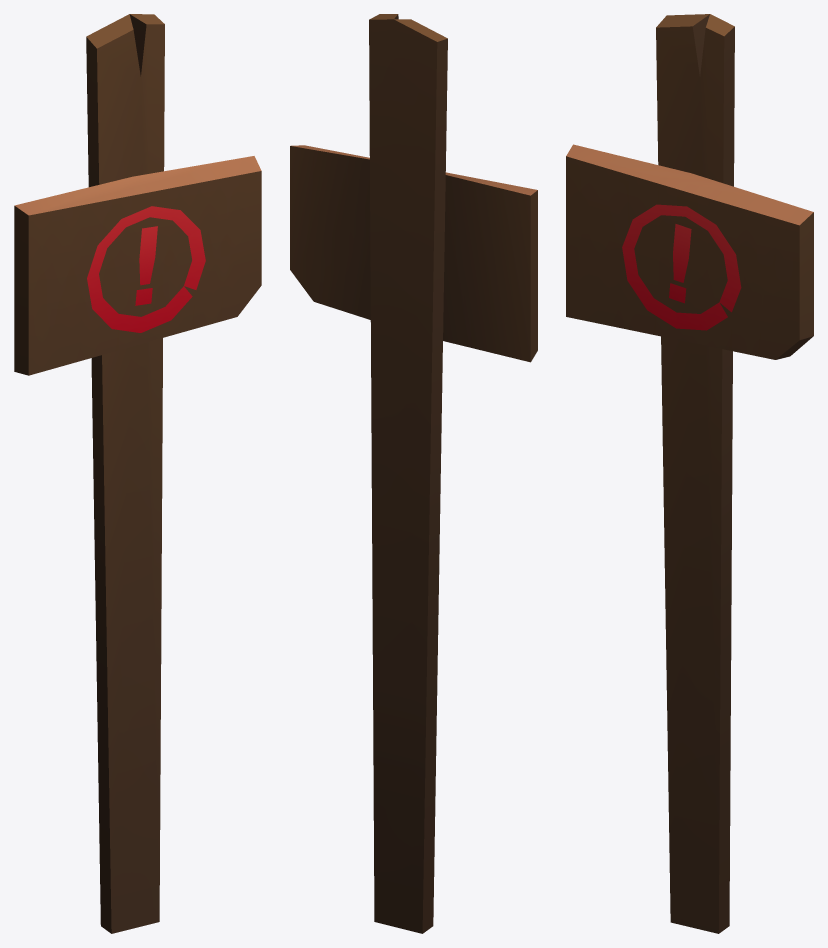
File: Signpost_1B.fbx
3 renders of one model, left to right at view 1: azimuth 30°, elevation 25°; view 2: azimuth 150°, elevation 25°; view 3: azimuth 330°, elevation 25°, orthographic.
Visible parts, largest first — view 1: Signpost_1B; view 2: Signpost_1B; view 3: Signpost_1B.
Part boxes in pixels (x1=…): Signpost_1B: x1=14, y1=14, x2=261, y2=933; Signpost_1B: x1=290, y1=14, x2=537, y2=933; Signpost_1B: x1=566, y1=14, x2=813, y2=933.
Size of the model in its own units: 64.64 by 233 by 10.95.
